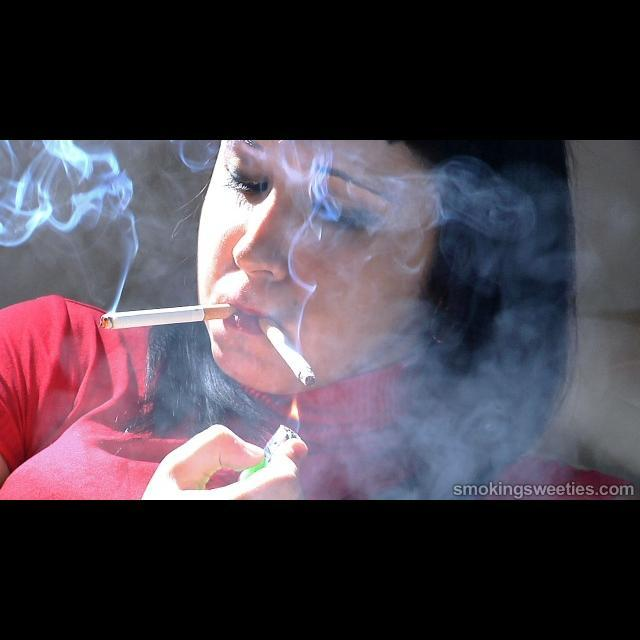rokok: (256, 311, 324, 393), (98, 302, 238, 334)
